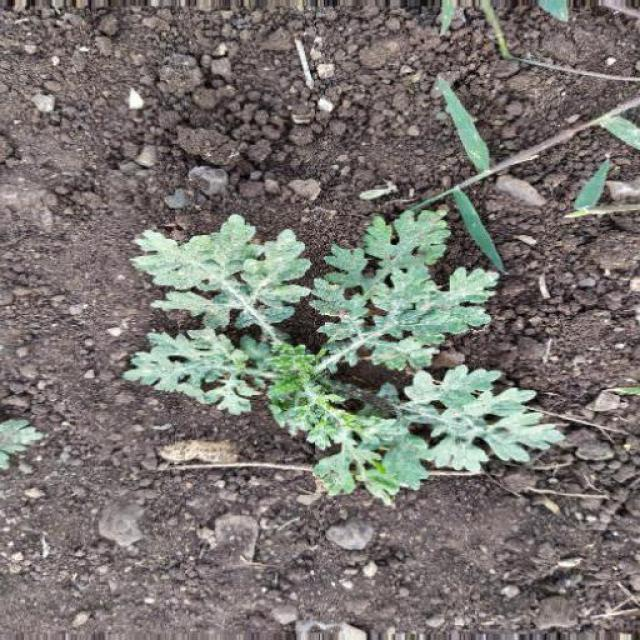weed: (117, 204, 568, 501)
